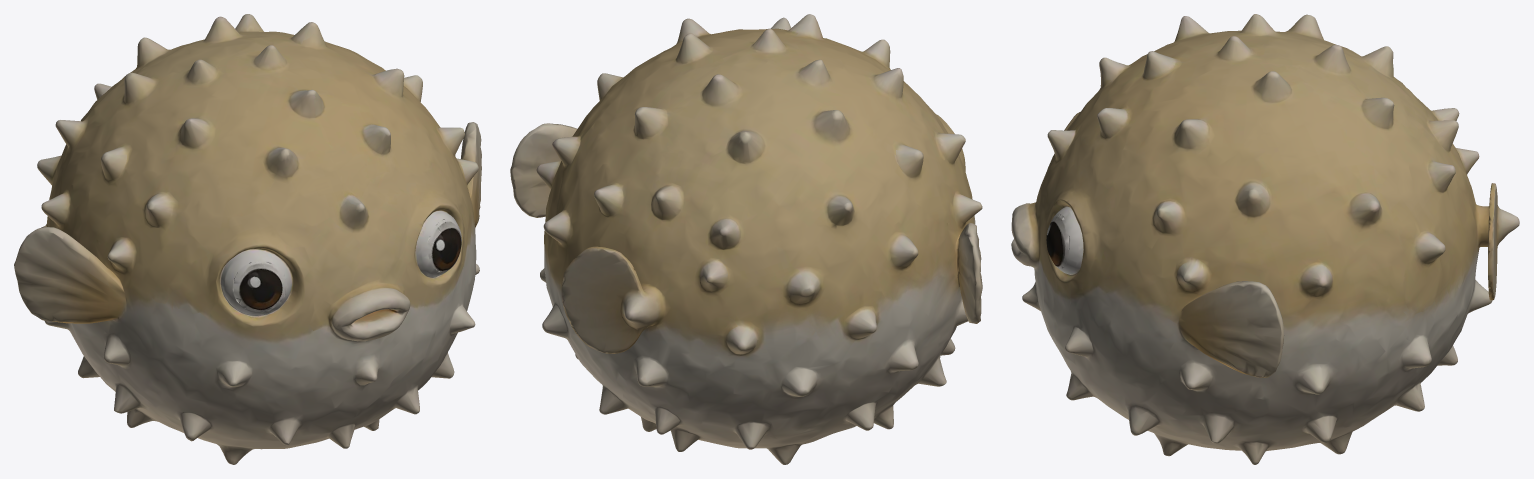
Rendered from nat_fish_puffer_v1.glb.
3 renders of one model, left to right at view 1: azimuth 30°, elevation 25°; view 2: azimuth 150°, elevation 25°; view 3: azimuth 270°, elevation 25°, orthographic.
Visible parts, largest first — view 1: tripo_node_502d8290-1a9e-4d25-8195-db152b55f8ac; view 2: tripo_node_502d8290-1a9e-4d25-8195-db152b55f8ac; view 3: tripo_node_502d8290-1a9e-4d25-8195-db152b55f8ac.
Part boxes in pixels (x1,y1,x2,y2): tripo_node_502d8290-1a9e-4d25-8195-db152b55f8ac: [14, 14, 481, 464]; tripo_node_502d8290-1a9e-4d25-8195-db152b55f8ac: [510, 14, 982, 464]; tripo_node_502d8290-1a9e-4d25-8195-db152b55f8ac: [1011, 14, 1519, 464].
Bounding box in the file's own units: 0.978 × 0.8072 × 0.9062.
Materials: 1 (1 with a texture image).
